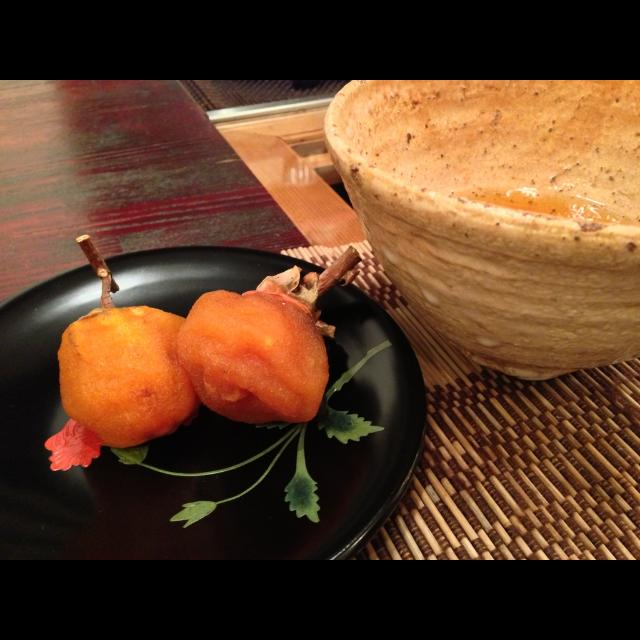Flower: (43, 413, 124, 475)
